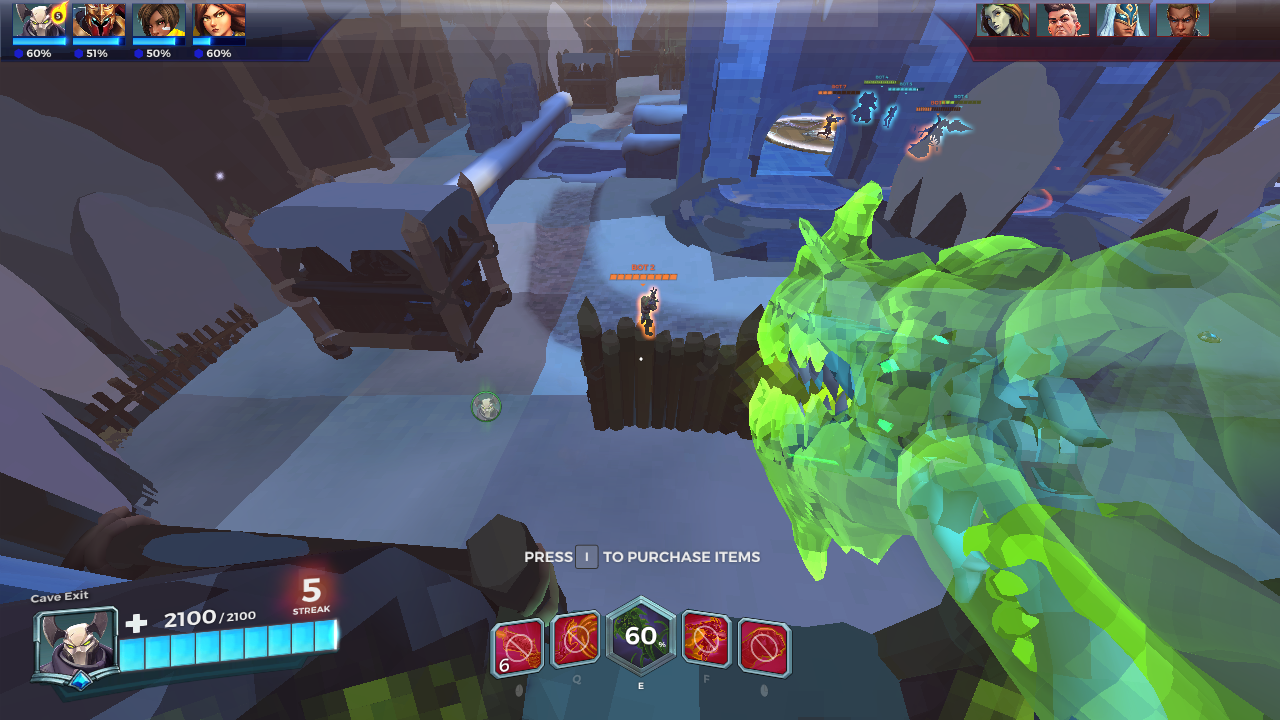model: (636, 282, 661, 345), (813, 110, 842, 139)
